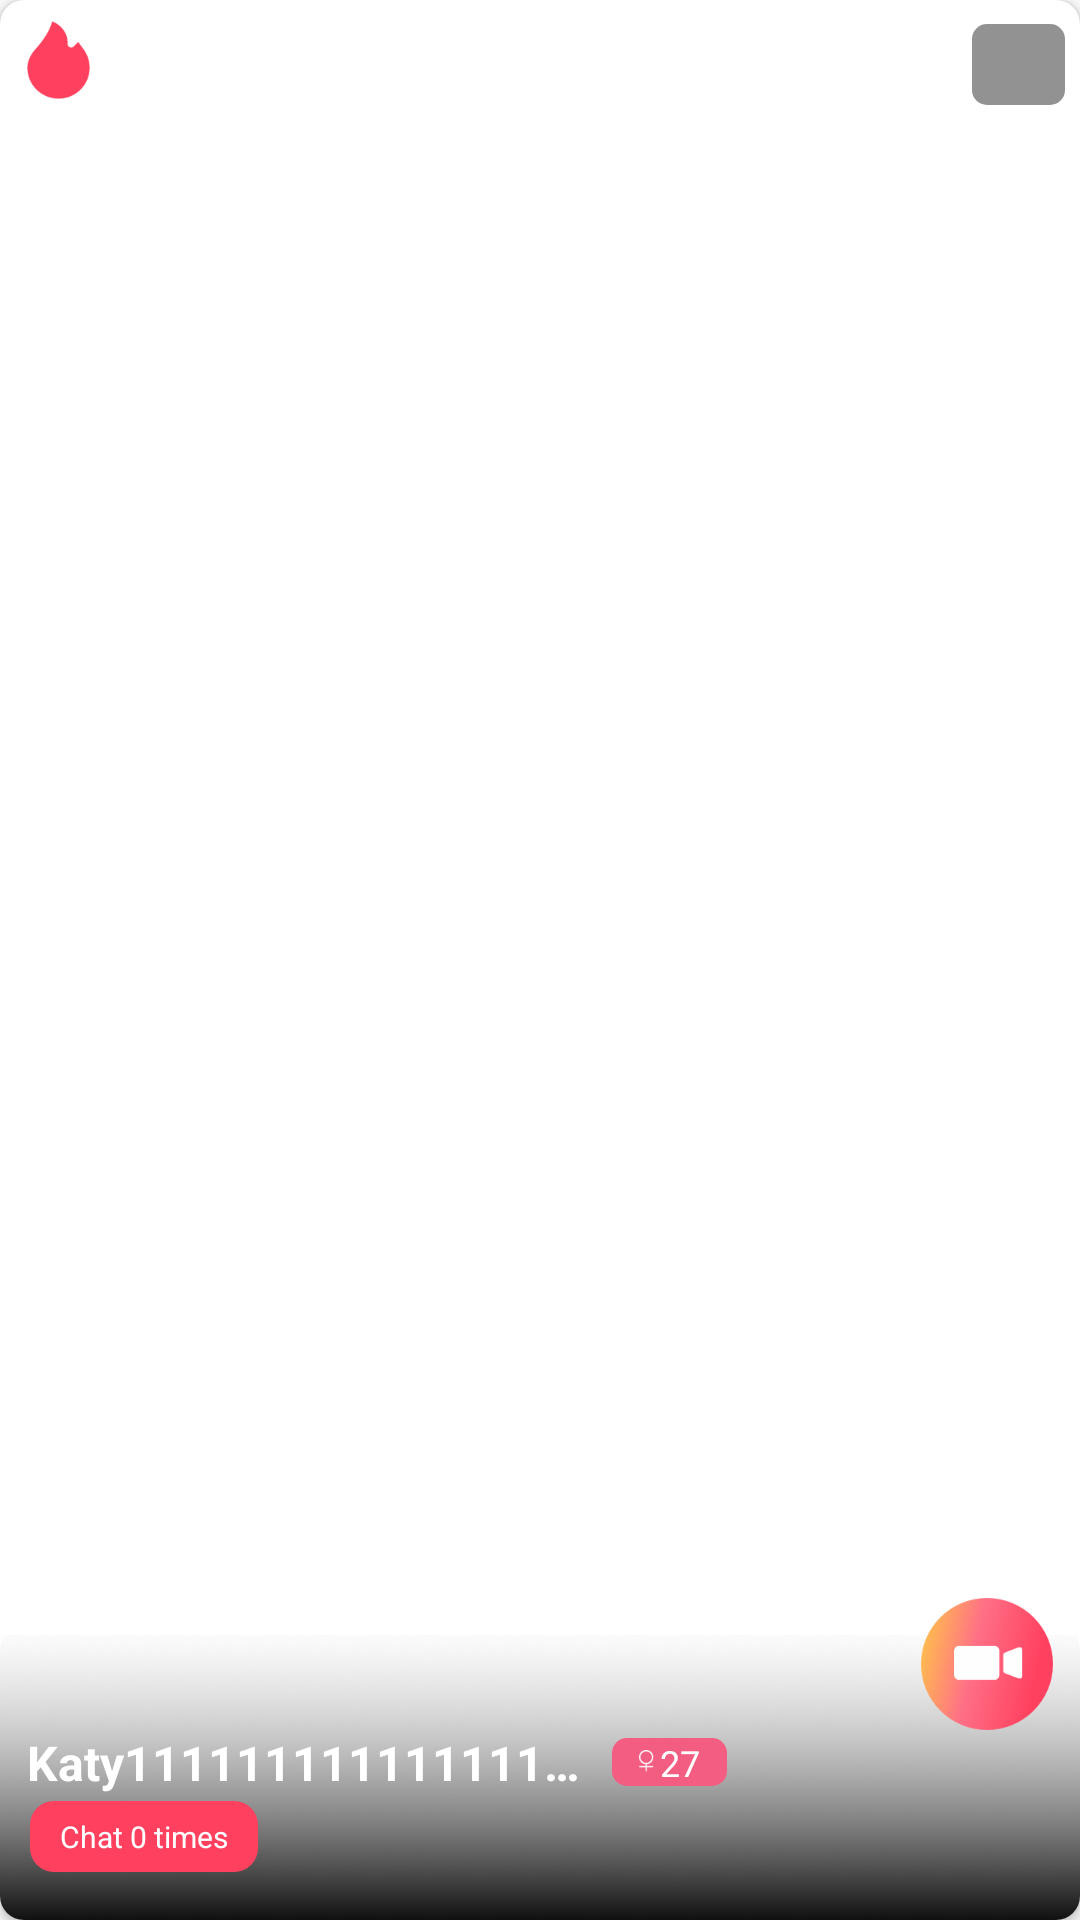

Point at icon controls on the screen. Image size 1080*1920, points as (x=x, y=y).
chatter home camera: (x=987, y=1664)
chatter home hot: (x=58, y=60)
